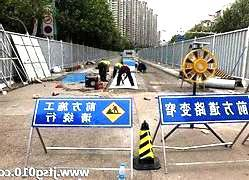sign: (34, 98, 133, 128), (161, 96, 248, 120)
